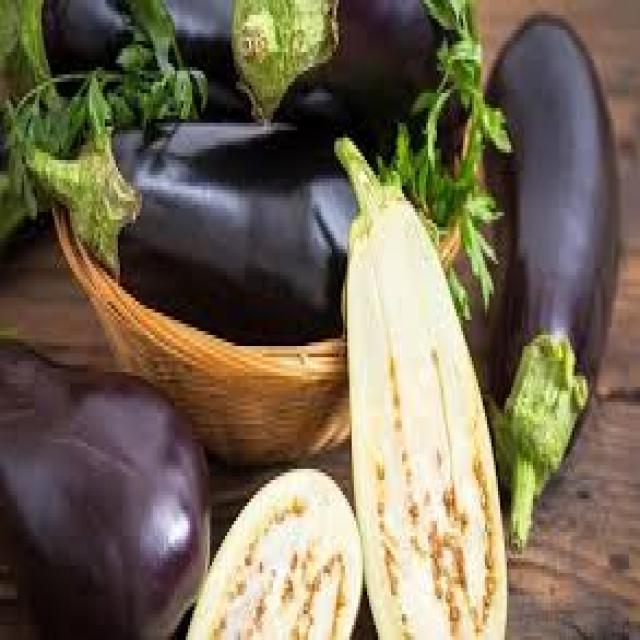eggplant: (32, 115, 455, 349), (319, 121, 508, 640), (476, 0, 640, 566), (0, 305, 223, 640), (208, 0, 505, 146), (36, 0, 258, 138), (193, 443, 297, 640)
